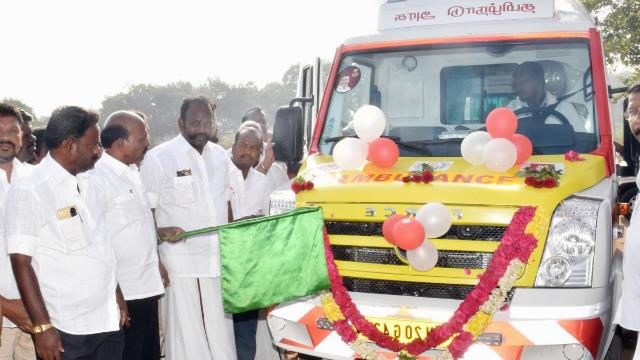ambulance: (258, 0, 616, 360)
